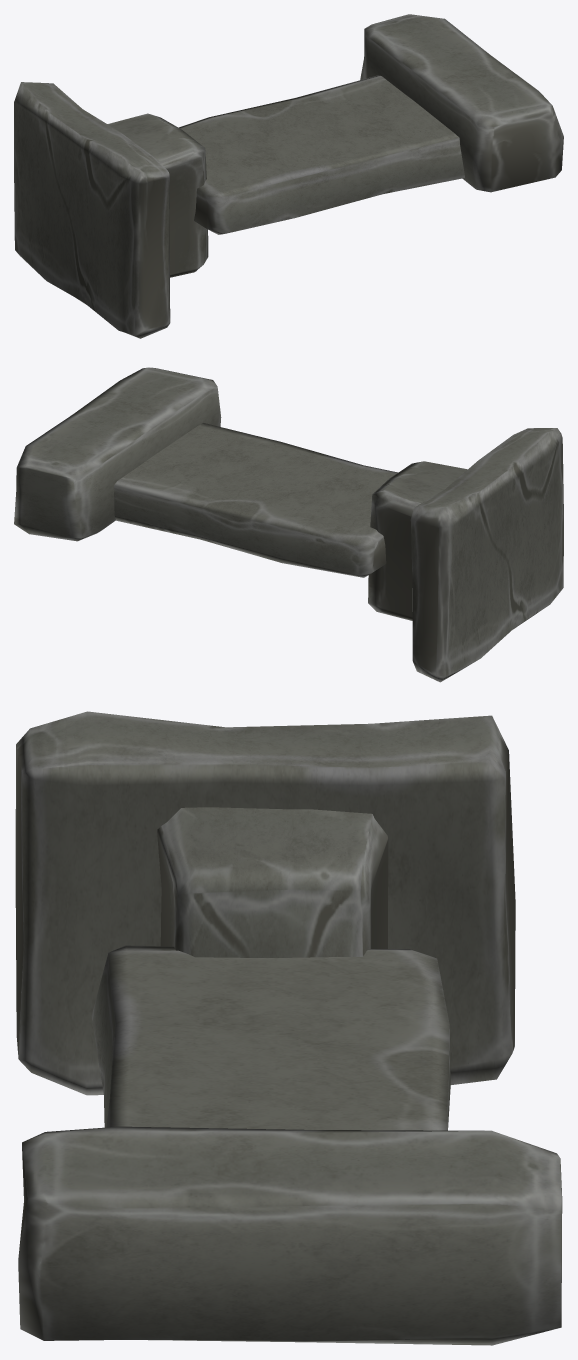
File: Platform_Flying_S.fbx
3 views of the same model, one above another, from view 1: azimuth 30°, elevation 25°; view 2: azimuth 150°, elevation 25°; view 3: azimuth 270°, elevation 25° (orthographic). The views are drawn at different scales.
Visible parts, largest first — view 1: Platform_Flying_S; view 2: Platform_Flying_S; view 3: Platform_Flying_S.
Part boxes in pixels (x1,y1,x2,y2): Platform_Flying_S: [14, 14, 563, 338]; Platform_Flying_S: [14, 367, 563, 682]; Platform_Flying_S: [15, 711, 562, 1345].
Bounding box in the file's own units: 1957 × 766 × 1073.
